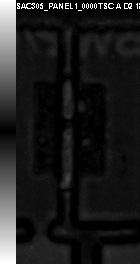led: (36, 83, 106, 177)
